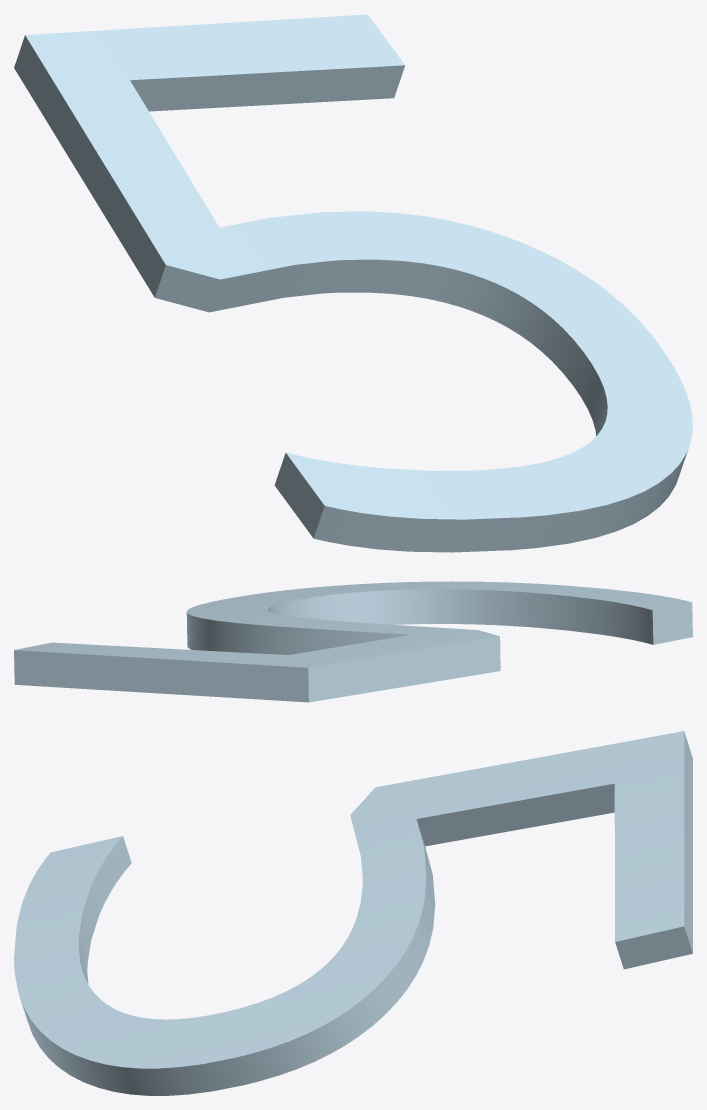
The model's file is Number_5.gltf.
The picture shows the model from 3 angles, top to bottom: view 1: azimuth 30°, elevation 25°; view 2: azimuth 150°, elevation 25°; view 3: azimuth 270°, elevation 25°; orthographic projection. The views are drawn at different scales.
Visible parts, largest first — view 1: Sub_9_Cell_3_3_Number_5; view 2: Sub_9_Cell_3_3_Number_5; view 3: Sub_9_Cell_3_3_Number_5.
Part boxes in pixels (bbox=[...]): Sub_9_Cell_3_3_Number_5: bbox=[14, 14, 692, 552]; Sub_9_Cell_3_3_Number_5: bbox=[14, 581, 692, 702]; Sub_9_Cell_3_3_Number_5: bbox=[14, 731, 692, 1095].
Size of the model in its own units: 0.0162 by 0.00939 by 0.0249.
